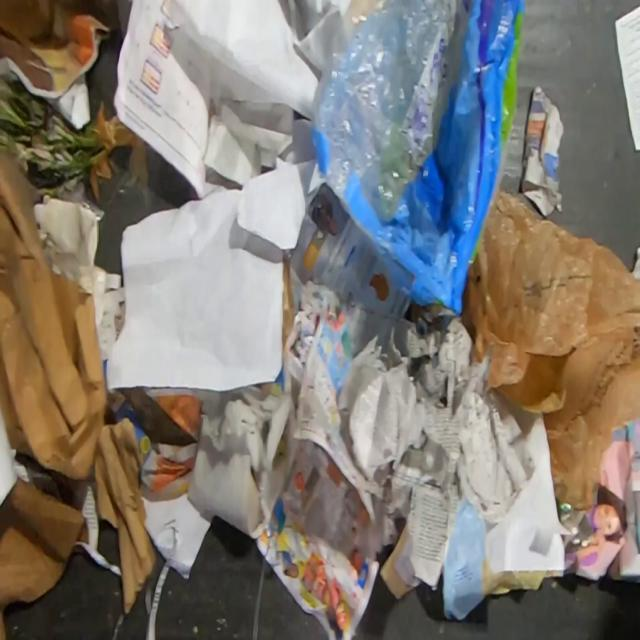cardboard: (0, 143, 116, 480), (0, 478, 89, 640), (93, 417, 158, 618)
soft_plastic: (310, 0, 527, 319), (458, 185, 640, 512)
